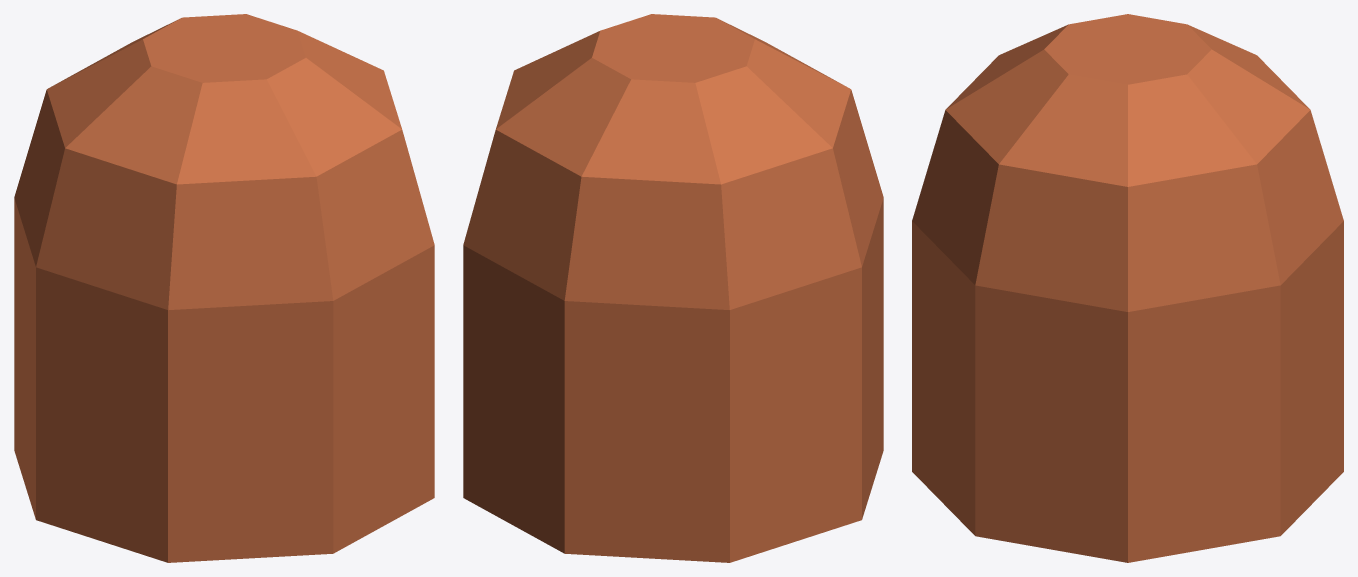
Rendered from BLT-9mm.fbx.
3 renders of one model, left to right at view 1: azimuth 30°, elevation 25°; view 2: azimuth 150°, elevation 25°; view 3: azimuth 270°, elevation 25°, orthographic.
Parts seen in each view (by area): view 1: Cylinder.017; view 2: Cylinder.017; view 3: Cylinder.017.
Part boxes in pixels (<box>): Cylinder.017: <box>14,14,434,562</box>; Cylinder.017: <box>463,14,883,562</box>; Cylinder.017: <box>912,14,1343,562</box>.
Bounding box in the file's own units: 23.94 × 25.83 × 23.94.
